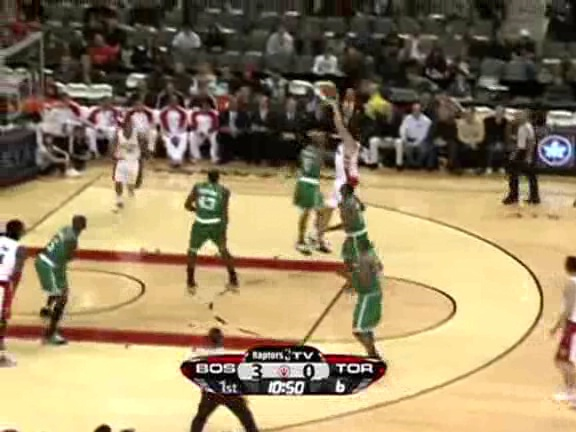person: (339, 189, 373, 270), (338, 189, 372, 270), (340, 189, 374, 270), (339, 188, 373, 269), (339, 190, 373, 271)
target_negative: (95, 151, 511, 325), (185, 120, 474, 329), (228, 323, 472, 372), (53, 52, 241, 83), (474, 186, 487, 198)
